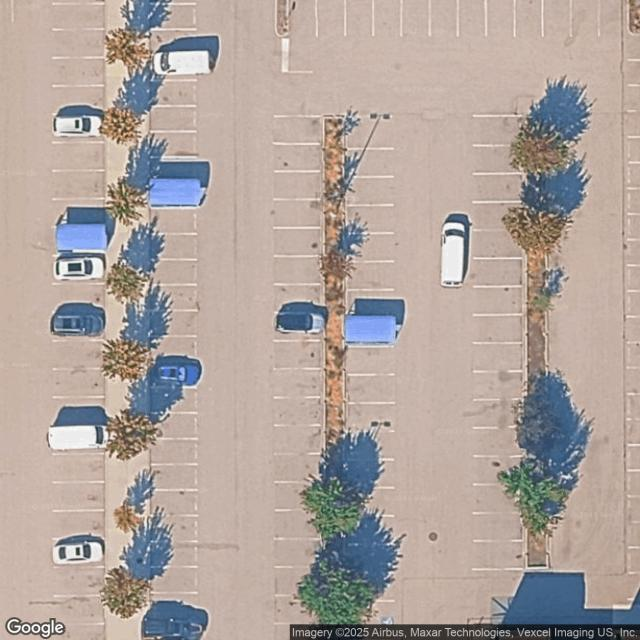car: (439, 219, 469, 289), (46, 423, 110, 454), (148, 355, 203, 388), (151, 48, 213, 76), (141, 618, 206, 640), (54, 537, 105, 565), (50, 312, 104, 337), (274, 311, 327, 335), (52, 113, 103, 137), (53, 256, 106, 279)
lot_boundary: (2, 1, 640, 637)
objects: (145, 178, 206, 207), (344, 312, 396, 345), (53, 222, 109, 250)
